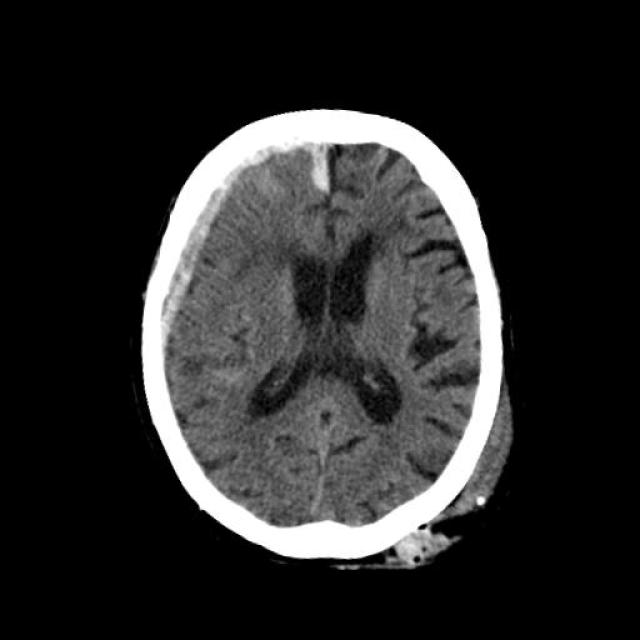Subdural: (136, 121, 335, 363)
